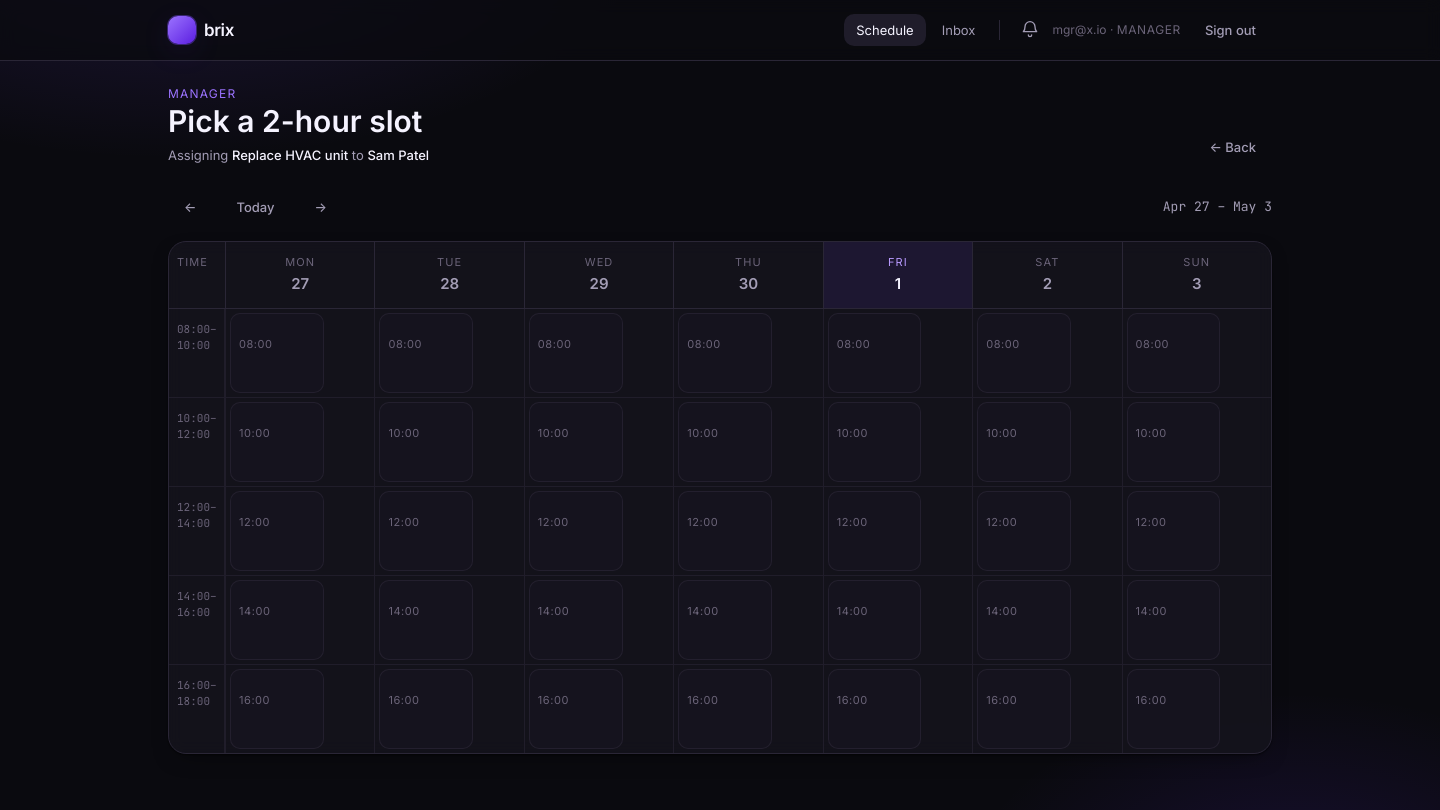
Test: ManagerSchedule › closes modal on cancel
Expected: the text "Mon" is shown, [285, 254, 315, 268]
Click the 1st button "08:00" at (277, 352), box [230, 312, 324, 392]
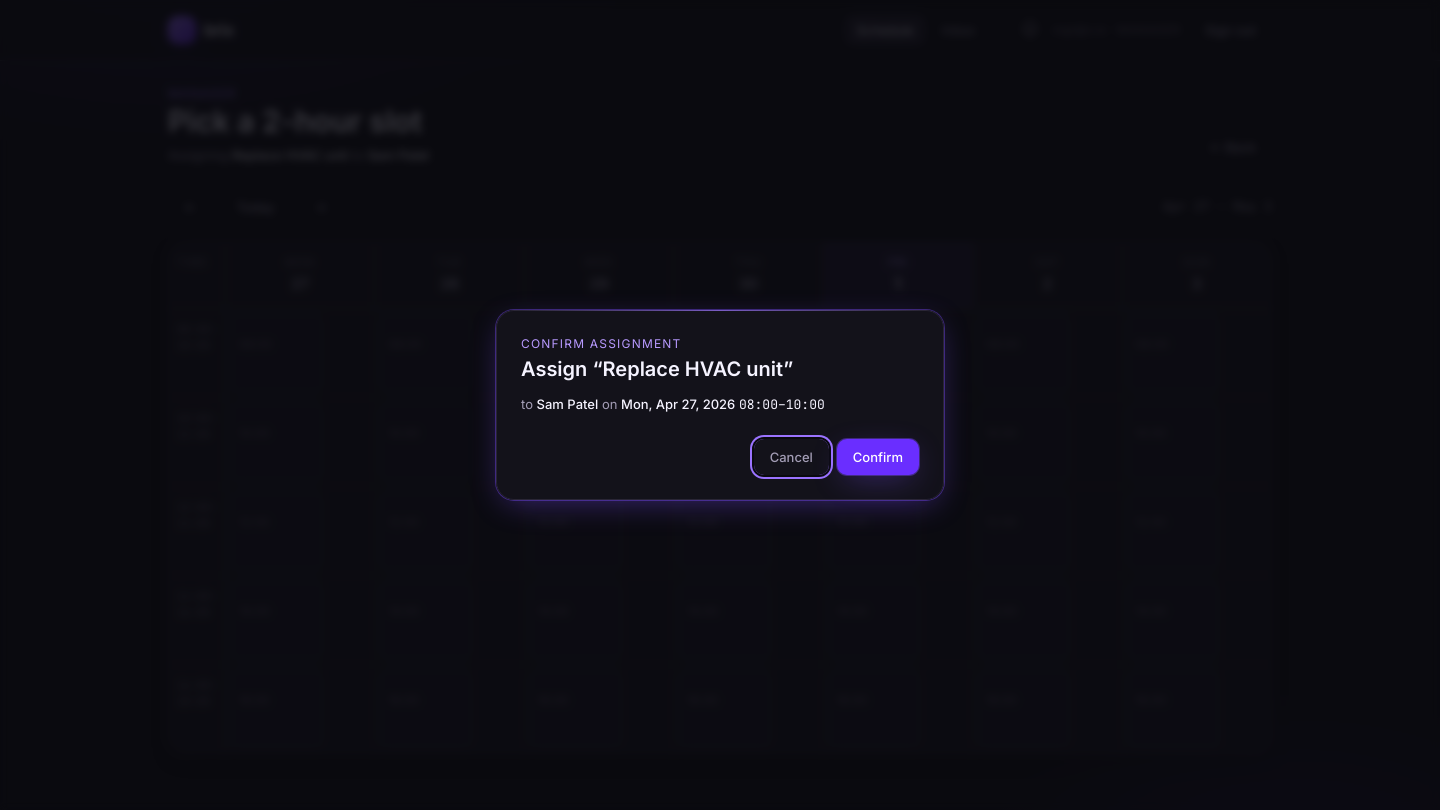
Expected: the dialog is shown
Click the button "Cancel" at (791, 457), box [754, 439, 829, 475]
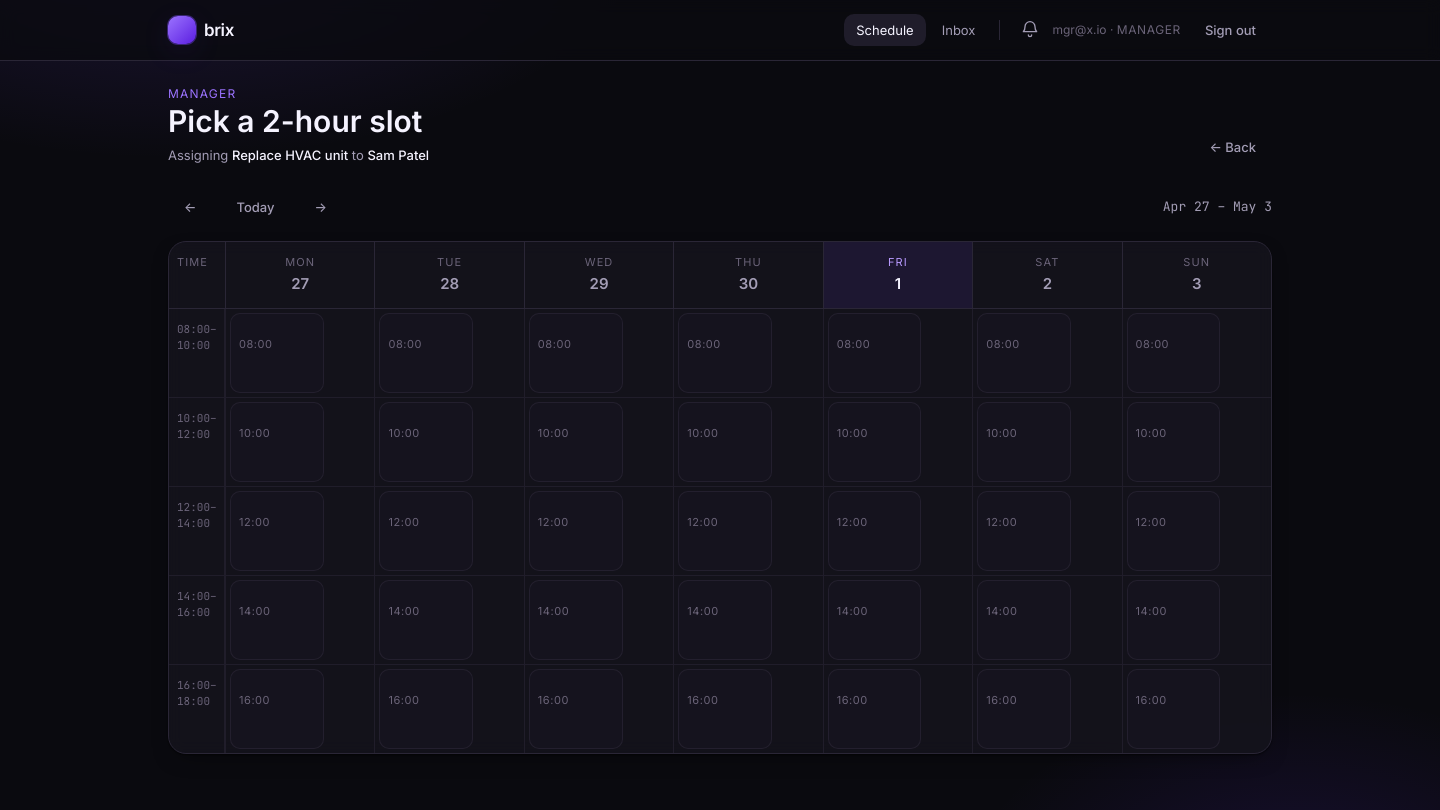
Expected: the dialog is gone
